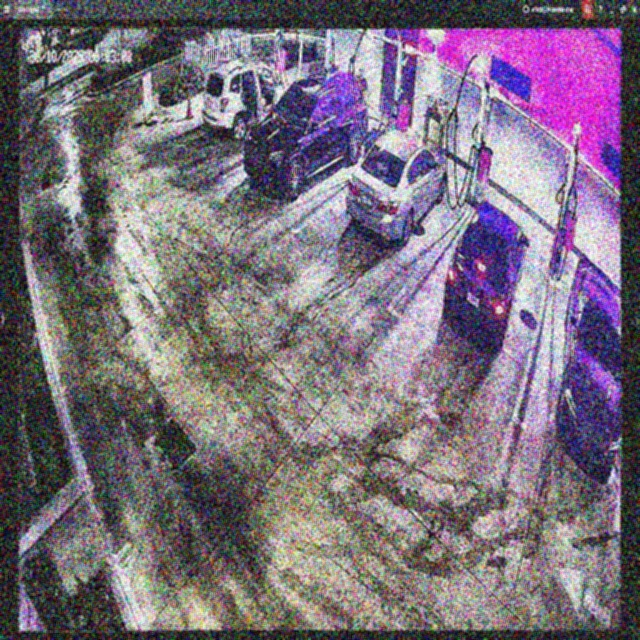Car: (245, 71, 368, 202), (444, 198, 529, 348), (346, 133, 448, 243), (203, 60, 298, 141)
